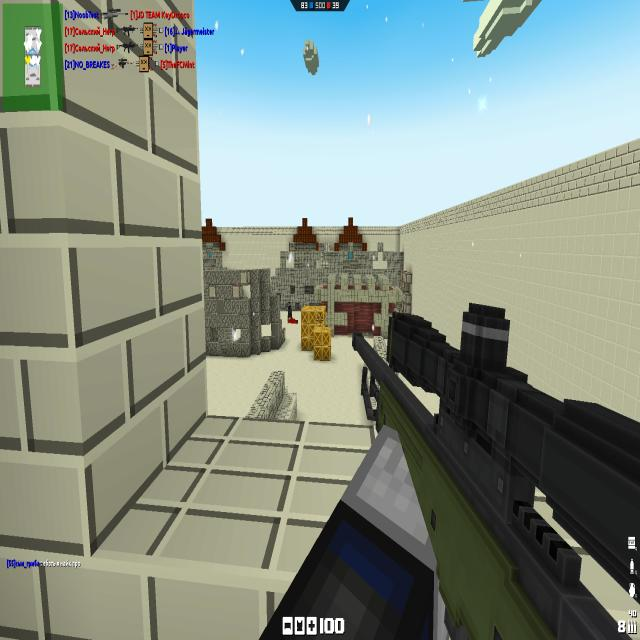player: (286, 300, 292, 320), (288, 317, 298, 325)
